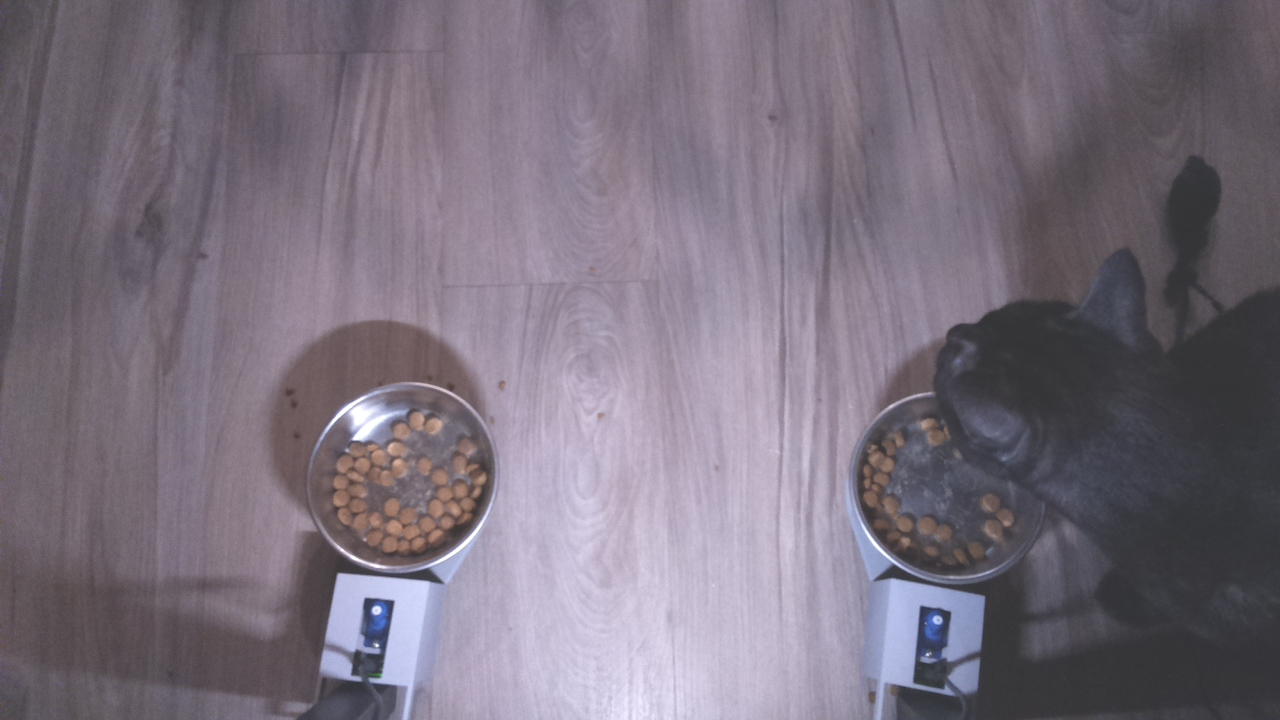open_bowl: (306, 377, 513, 578), (837, 436, 1047, 578)
saki: (925, 240, 1184, 493)
